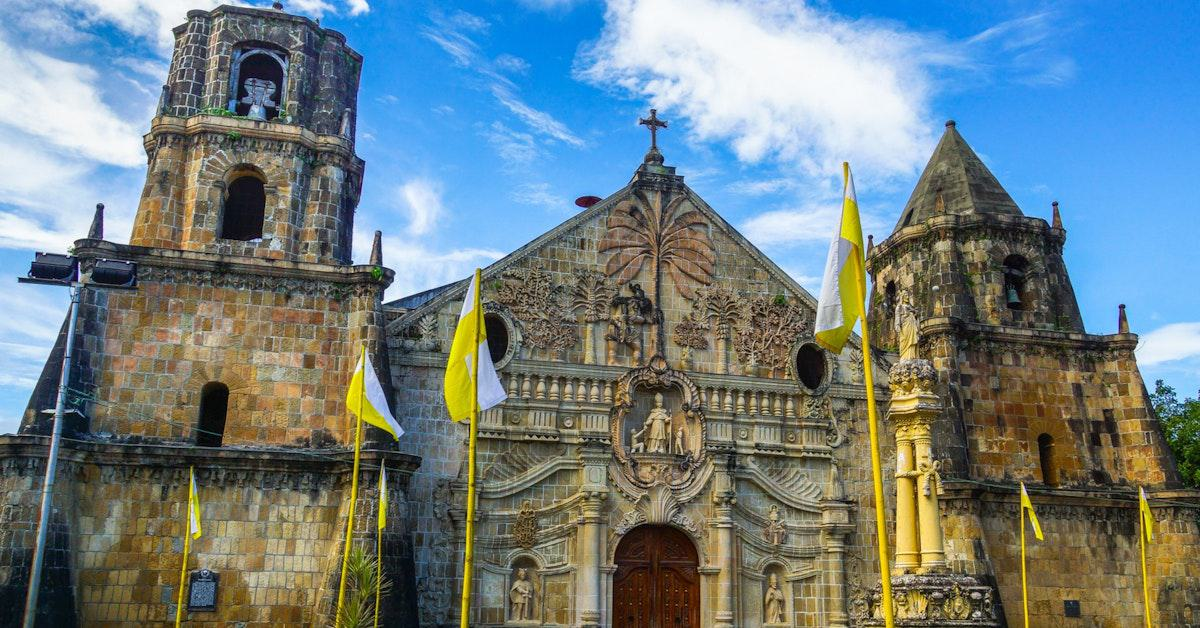Environmental Damage: (192, 104, 235, 126), (369, 263, 385, 281)
Miagao Church: (12, 5, 1193, 623)
